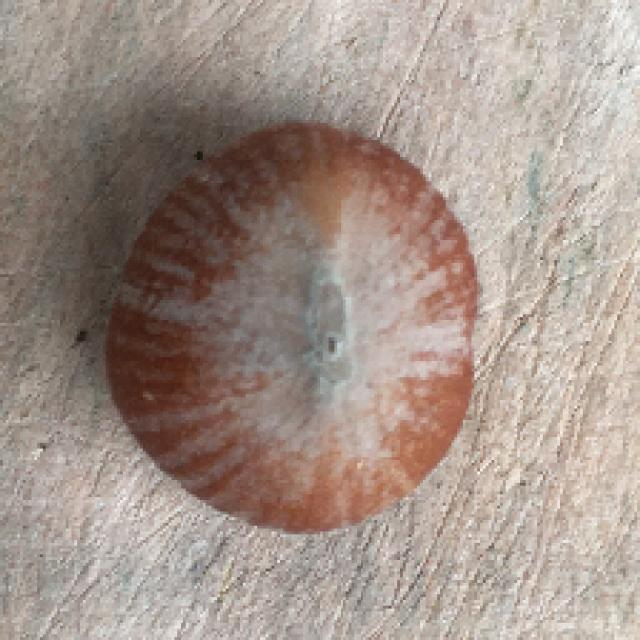qualityHazelnut: (101, 117, 483, 535)
